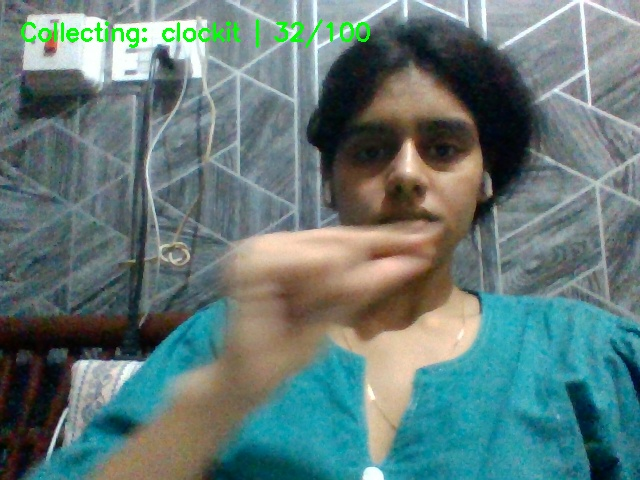clockit: (212, 212, 464, 418)
